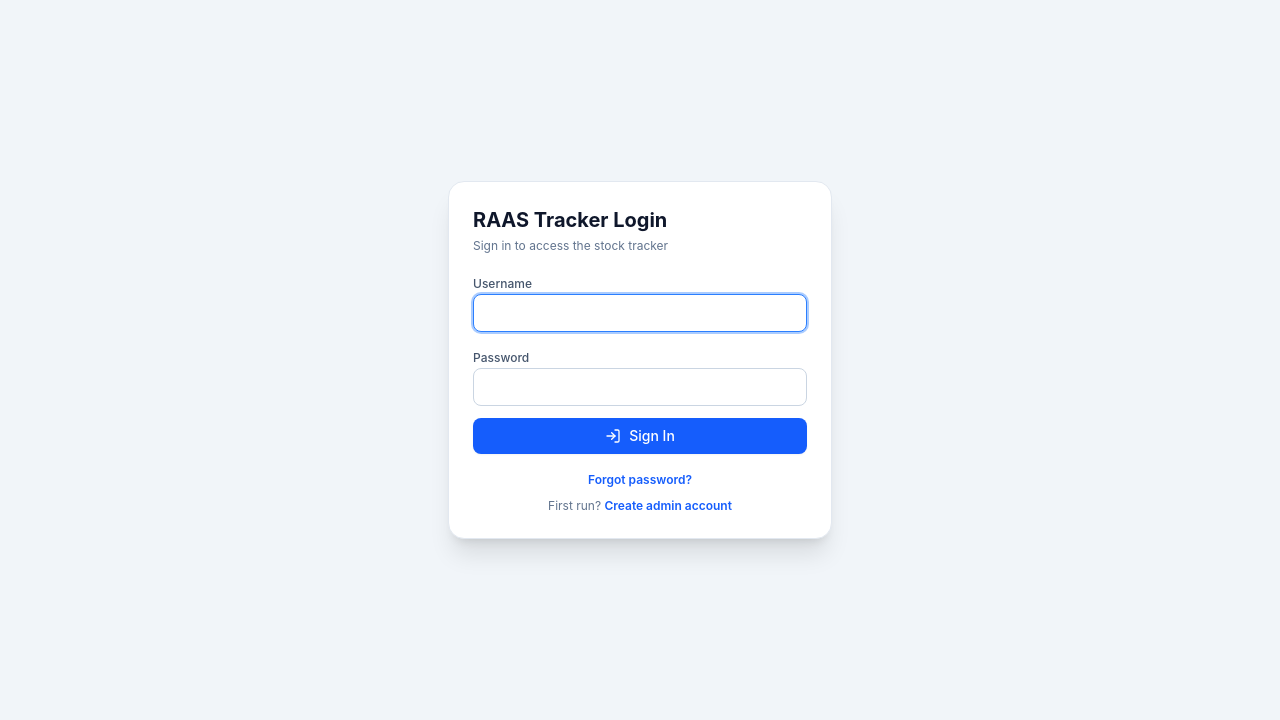
it: Login forgot-password modal › requires a username before sending
The width and height of the screenshot is (1280, 720).
Check: the button "Sign In" is shown, box [473,418,807,454]
Click the button "Forgot password?" at (640, 480), box [588,472,692,488]
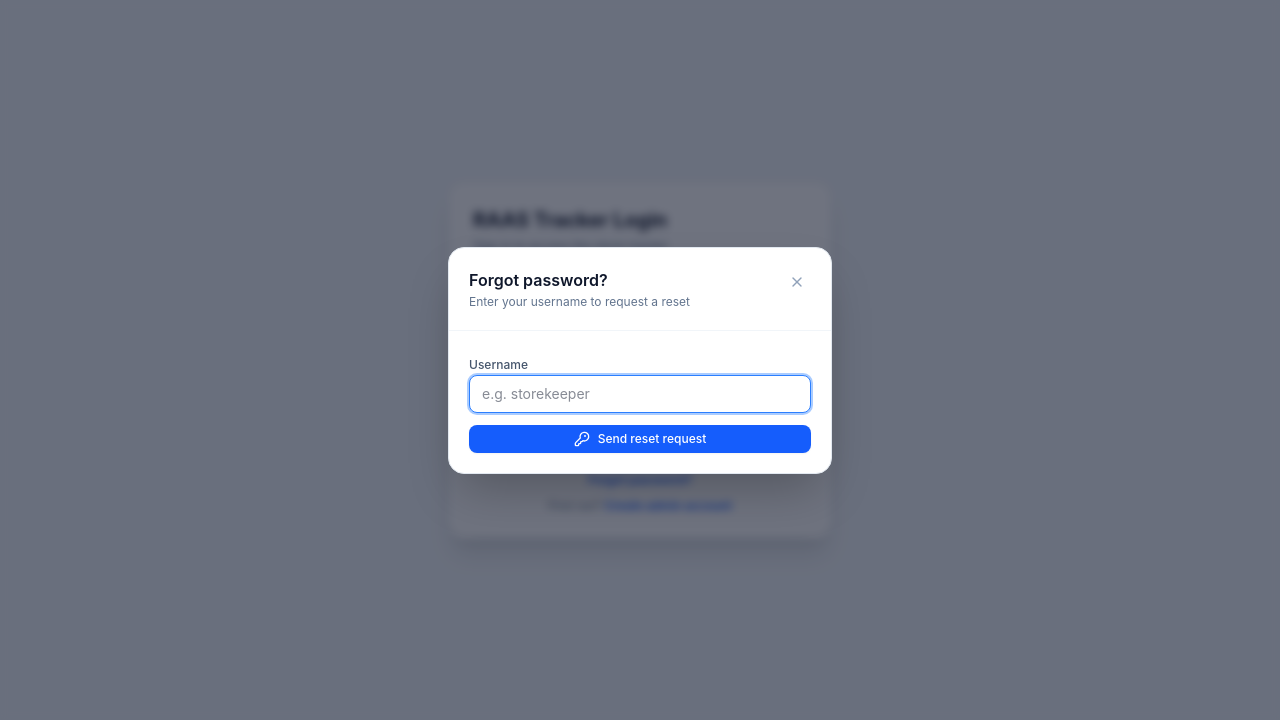
Click the button "Send reset request" at (640, 438), box [469,424,811,452]
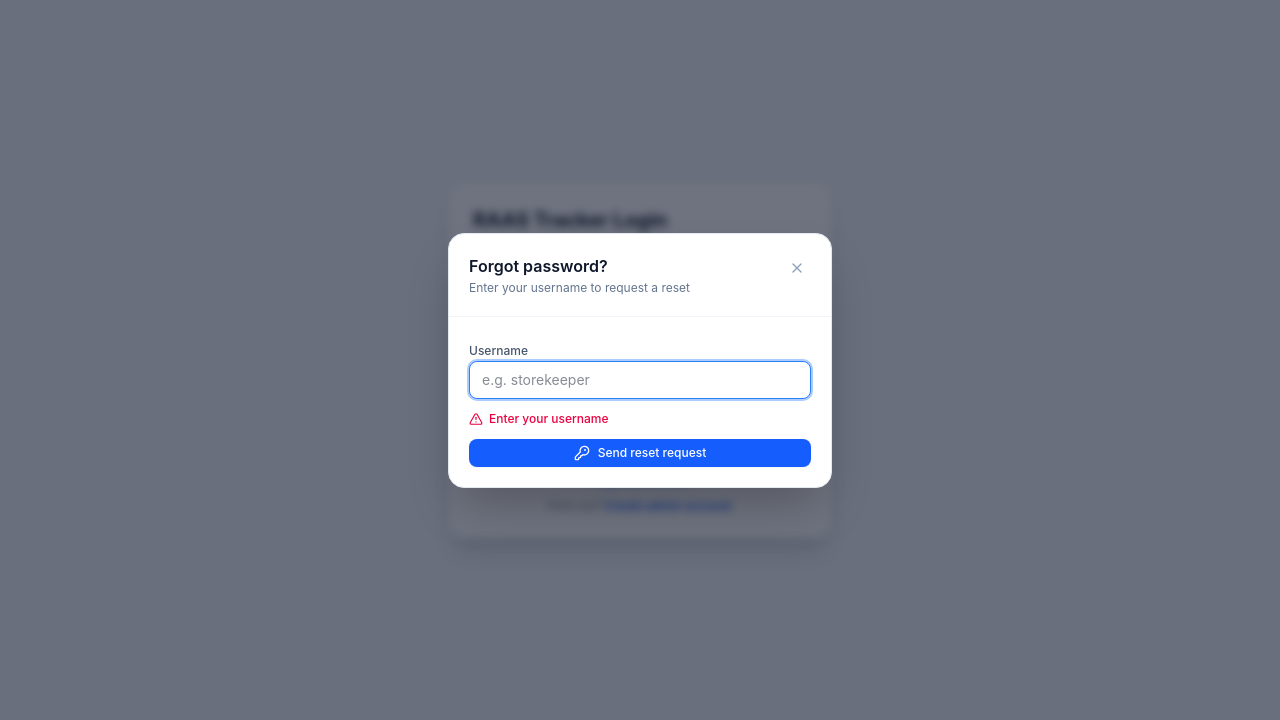
Check: the text "Enter your username" is shown, box [469,410,609,426]
